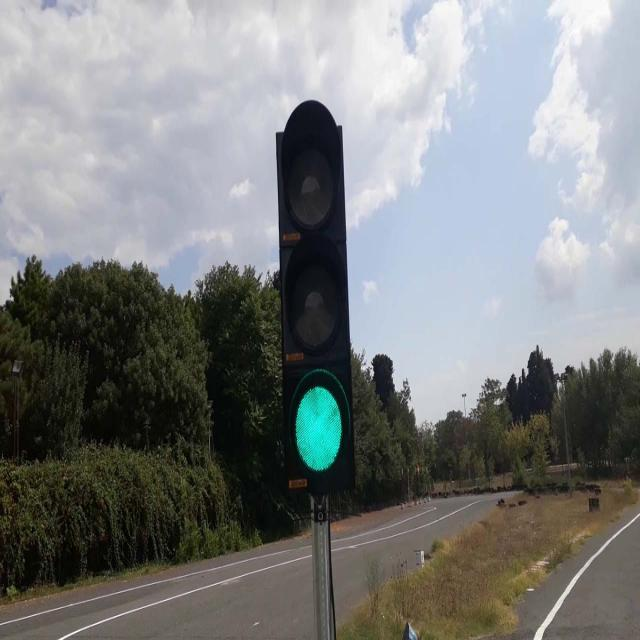yesil: (274, 100, 354, 488)
